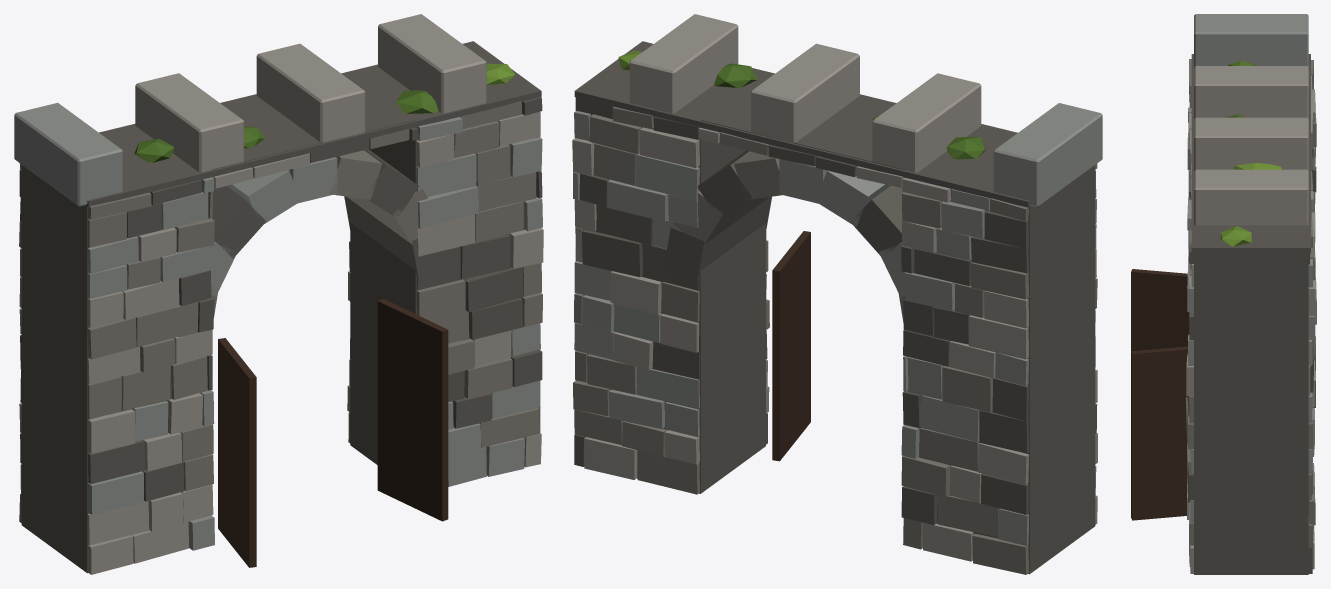
Rendered from forest_fort_gate.glb.
3 renders of one model, left to right at view 1: azimuth 30°, elevation 25°; view 2: azimuth 150°, elevation 25°; view 3: azimuth 270°, elevation 25°, orthographic. The views are drawn at different scales.
Visible parts, largest first — view 1: forest_fort_gate; view 2: forest_fort_gate; view 3: forest_fort_gate.
Part boxes in pixels (box(x1,y1,x2,y2)): forest_fort_gate: box(14, 14, 543, 574); forest_fort_gate: box(572, 14, 1102, 574); forest_fort_gate: box(1131, 14, 1316, 574).
Size of the model in its own units: 8.15 by 7 by 3.24.
